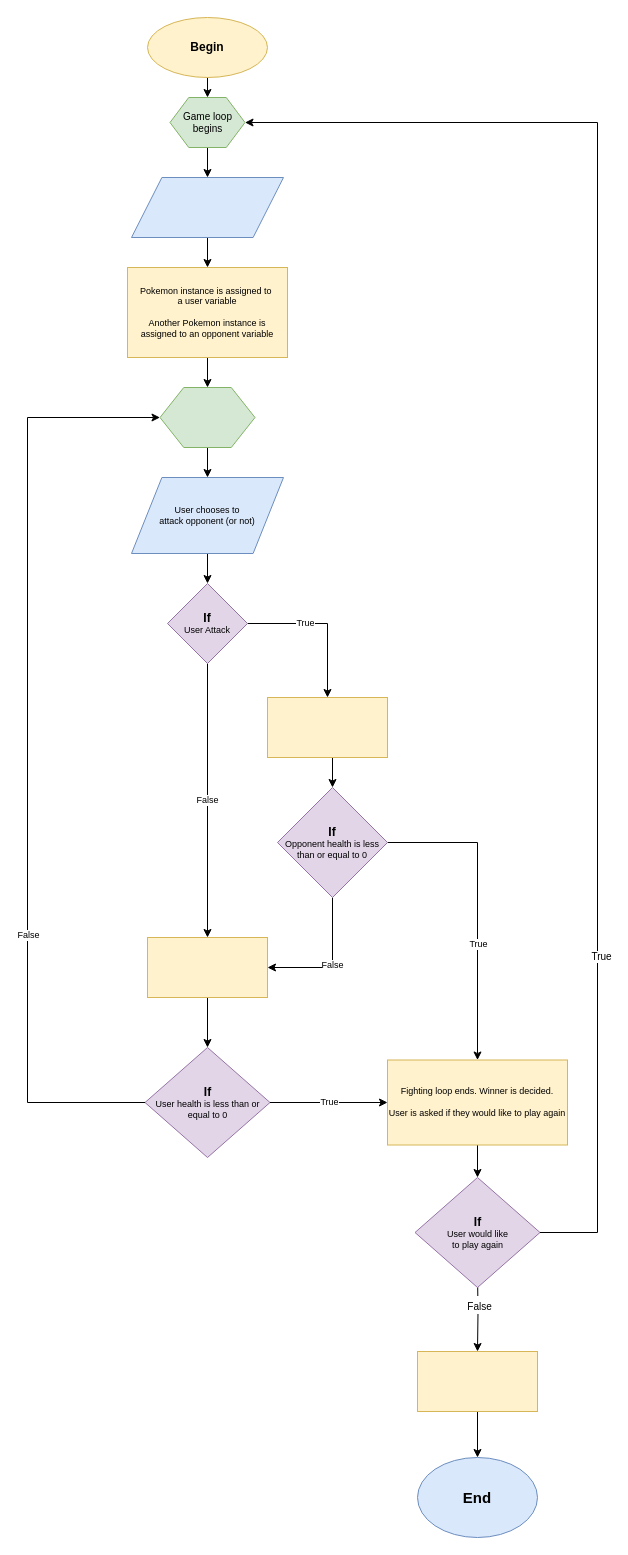
This 628x1555 diagram has some shape labels left out. The shapes that lost their labels are listed below. From the top down, each one's centre as x and y in pixels, then its label:
(x=207, y=207): User chooses a Pokemon from a range of options
(x=207, y=417): Fighting loop begins
(x=327, y=727): Damage is calculated and applied to opponent health
(x=207, y=967): Opponent Attacks Damage is calculated and applied to user health
(x=477, y=1381): Game loop ends
